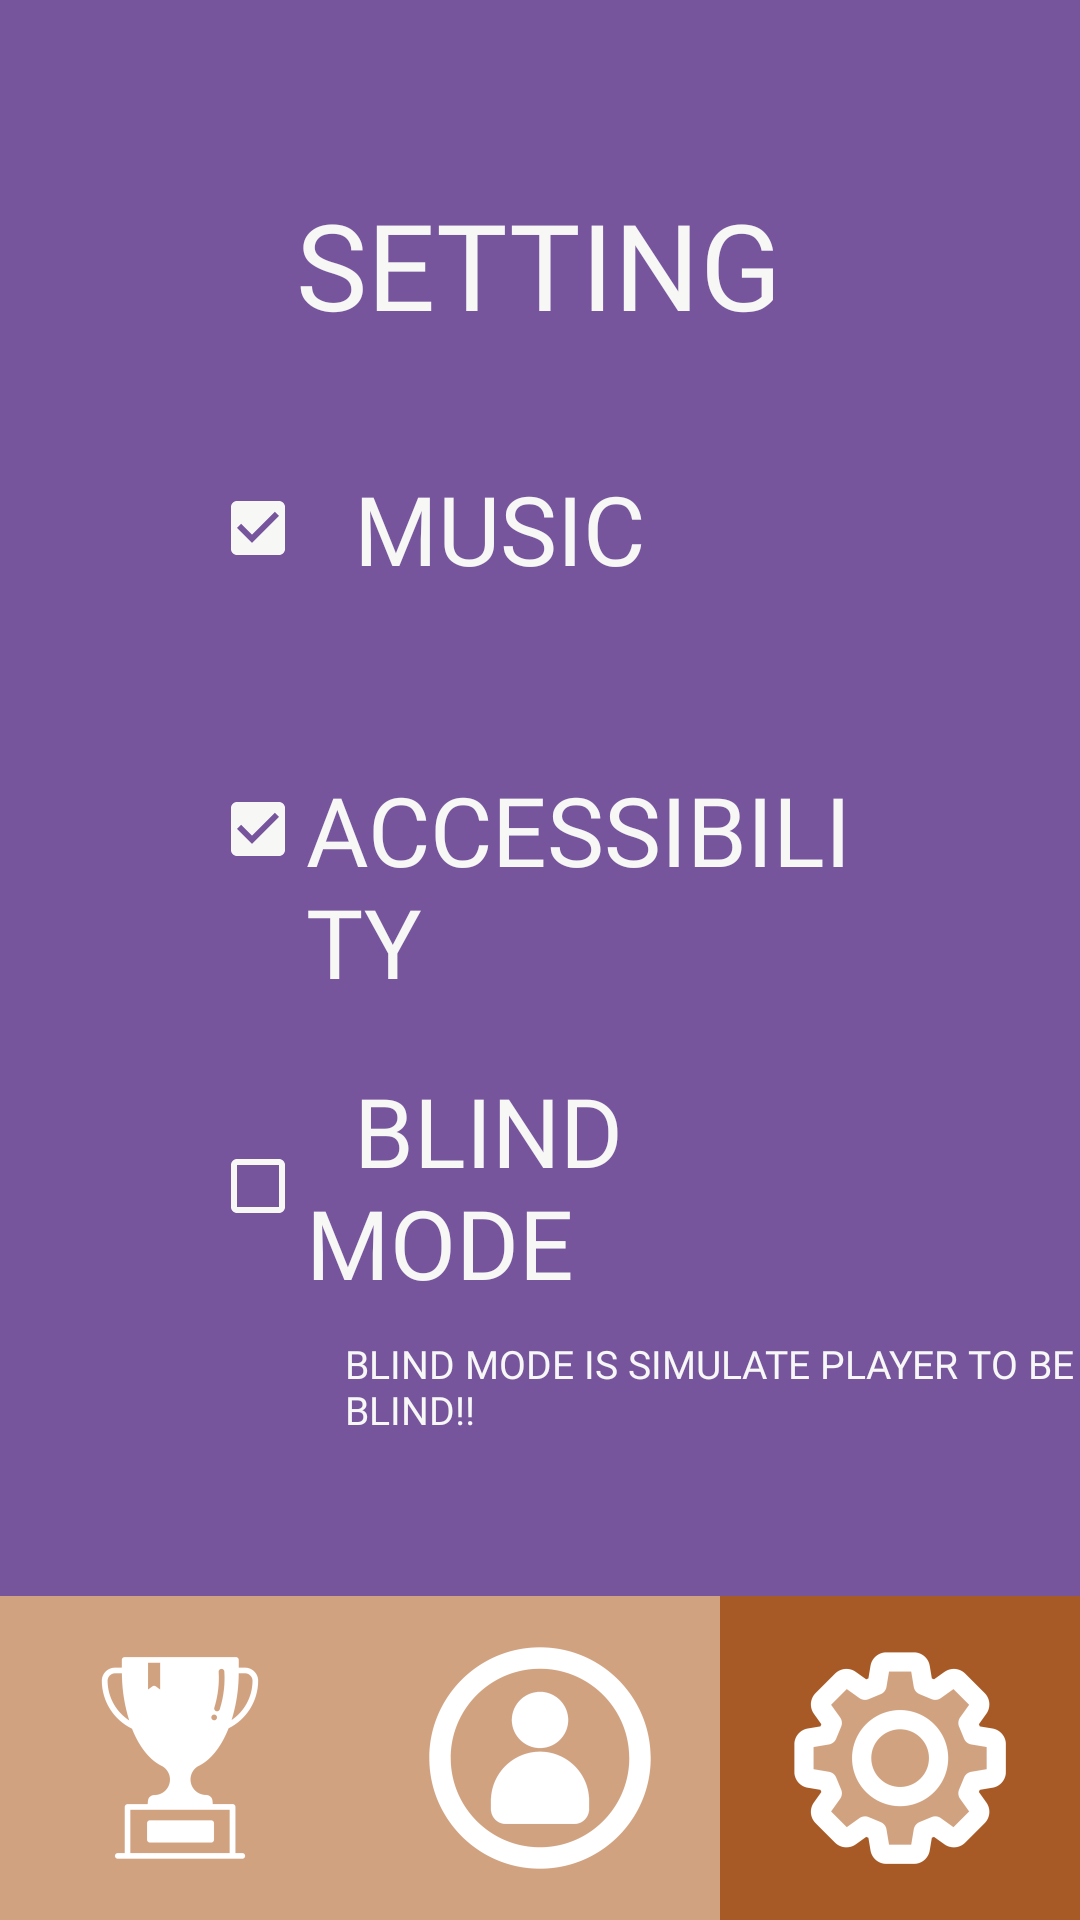

Named icons in this screenshot (1080×1920) and their centers, [x,y]:
profile: [540,1758]
scoreboard: [180,1758]
setting: [900,1758]
